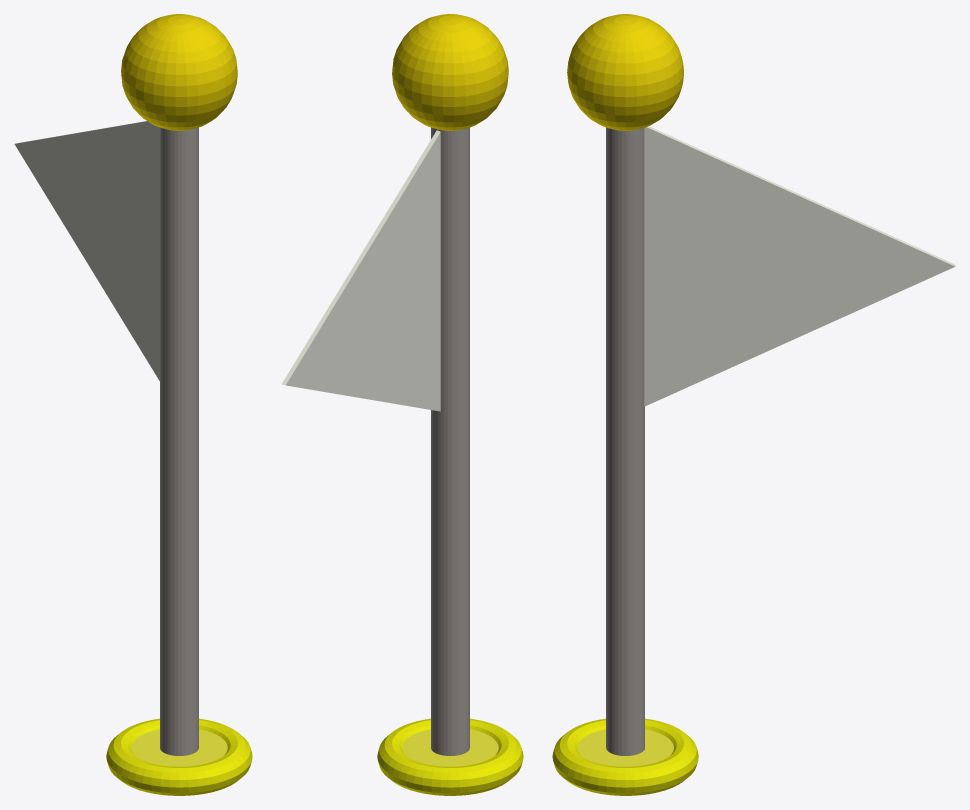
File: HalfWayPoint.fbx
3 renders of one model, left to right at view 1: azimuth 30°, elevation 25°; view 2: azimuth 150°, elevation 25°; view 3: azimuth 270°, elevation 25°, orthographic.
Parts seen in each view (by area): view 1: Cylinder, Cube, Sphere, Torus, Cylinder.001; view 2: Cube, Cylinder, Sphere, Torus, Cylinder.001; view 3: Cube, Cylinder, Sphere, Torus, Cylinder.001.
Part boxes in pixels (left/top/right/bottom): Cylinder: left=160, top=127, right=198, bottom=755; Cube: left=14, top=121, right=159, bottom=380; Sphere: left=121, top=14, right=237, bottom=130; Torus: left=106, top=718, right=252, bottom=795; Cylinder.001: left=131, top=729, right=227, bottom=766; Cube: left=281, top=130, right=440, bottom=411; Cylinder: left=431, top=127, right=469, bottom=755; Sphere: left=392, top=14, right=508, bottom=130; Torus: left=377, top=718, right=523, bottom=795; Cylinder.001: left=402, top=729, right=498, bottom=766; Cube: left=644, top=126, right=955, bottom=406; Cylinder: left=606, top=127, right=644, bottom=755; Sphere: left=567, top=14, right=683, bottom=130; Torus: left=552, top=718, right=698, bottom=795; Cylinder.001: left=577, top=729, right=673, bottom=766.
Bounding box in the file's own units: 75 × 424 × 207.
